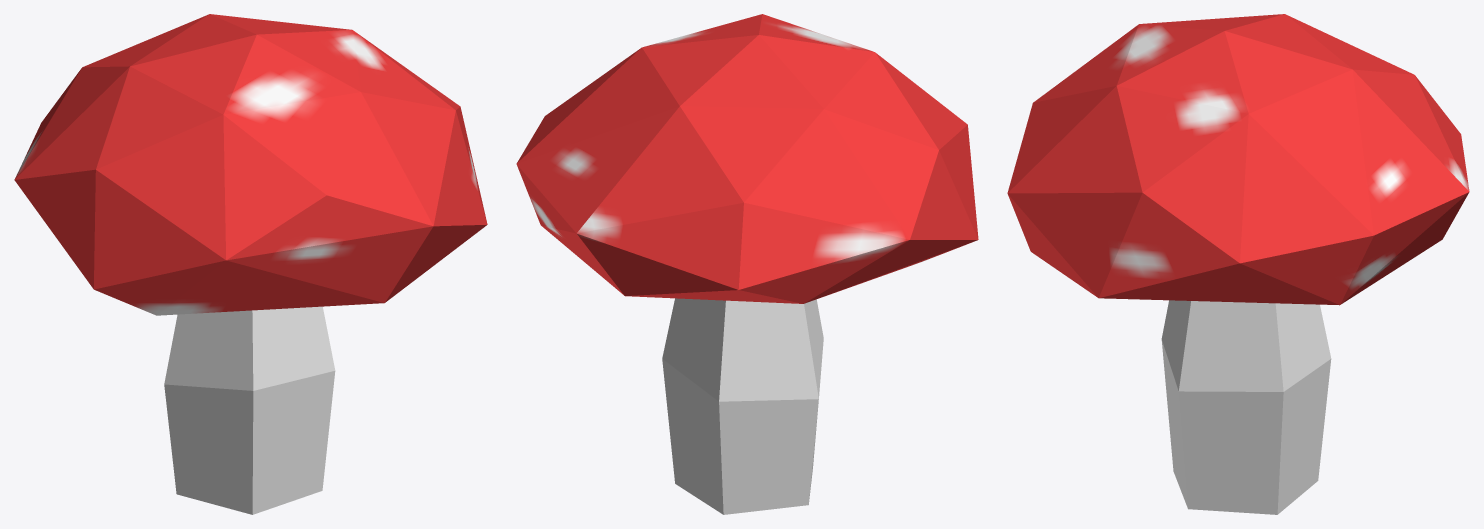
The model's file is Mushroom_e_02.fbx.
The picture shows the model from 3 angles, left to right: view 1: azimuth 30°, elevation 25°; view 2: azimuth 150°, elevation 25°; view 3: azimuth 270°, elevation 25°; orthographic projection. The views are drawn at different scales.
Visible parts, largest first — view 1: Mushroom_e_02; view 2: Mushroom_e_02; view 3: Mushroom_e_02.
Part boxes in pixels (x1,y1,x2,y2): Mushroom_e_02: (14, 14, 487, 514); Mushroom_e_02: (516, 14, 978, 514); Mushroom_e_02: (1007, 14, 1469, 514).
Size of the model in its own units: 25.68 by 27.21 by 25.04.
